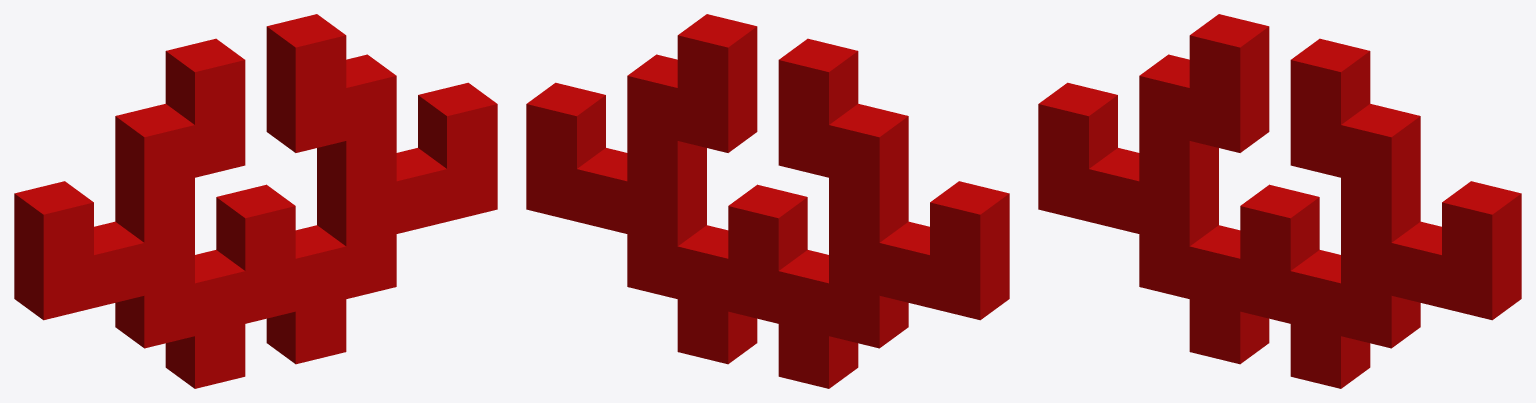
File: pixelInvader.fbx
3 renders of one model, left to right at view 1: azimuth 30°, elevation 25°; view 2: azimuth 150°, elevation 25°; view 3: azimuth 330°, elevation 25°, orthographic.
Visible parts, largest first — view 1: Cube.009; view 2: Cube.009; view 3: Cube.009.
Part boxes in pixels (x1,y1,x2,y2): Cube.009: (14,14,497,388); Cube.009: (526,14,1009,388); Cube.009: (1038,14,1521,388).
Bounding box in the file's own units: 150 × 100 × 16.67.
